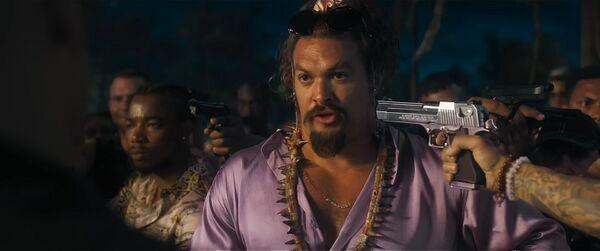Gun: (377, 98, 493, 193), (487, 82, 555, 120), (190, 98, 229, 123)
